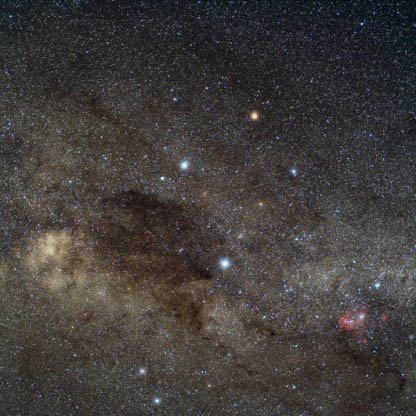Southern Cross: (208, 243, 240, 282), (239, 103, 268, 131), (283, 158, 306, 185), (172, 150, 193, 179)
